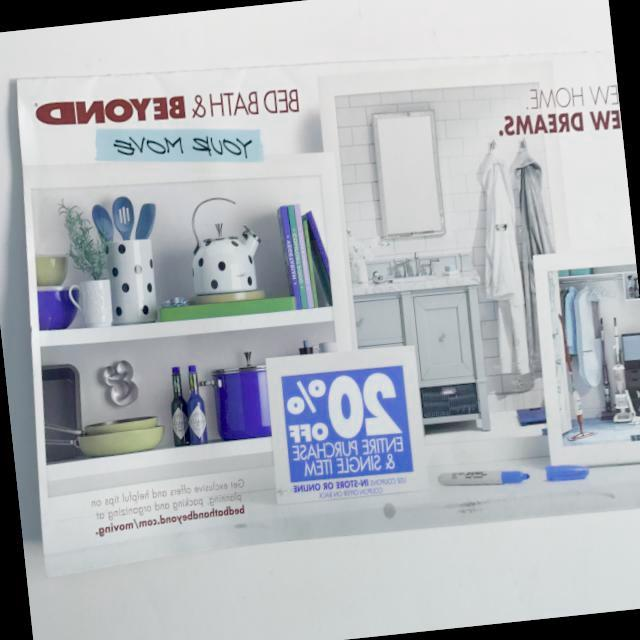paper: (0, 11, 640, 582)
